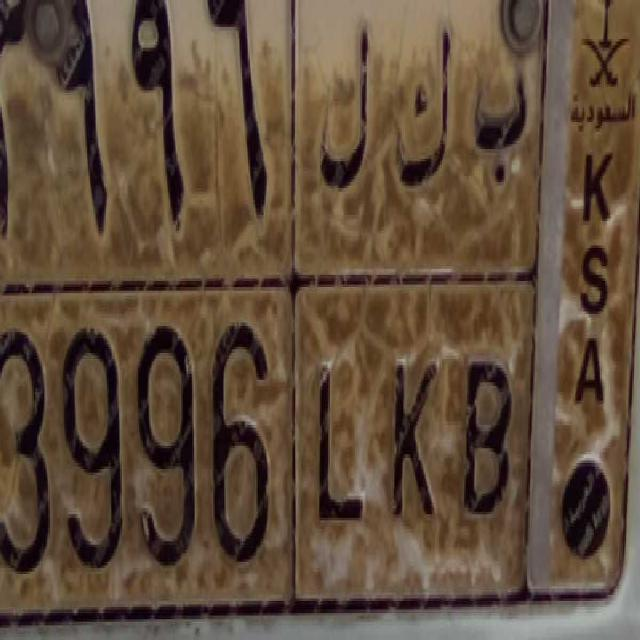license_plate: (0, 271, 522, 631)
